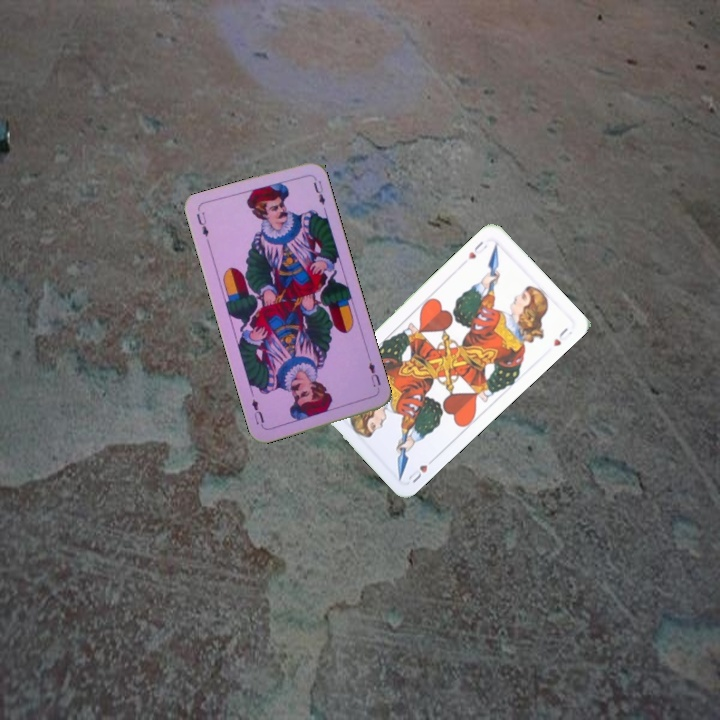EU: (364, 358, 383, 394), (192, 208, 211, 240)
HU: (404, 454, 438, 486), (464, 237, 490, 262)
